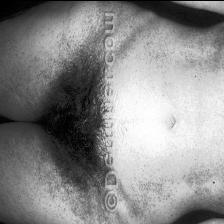Toxin: (124, 166, 172, 214), (188, 35, 224, 76), (60, 22, 97, 60), (65, 184, 100, 224), (139, 30, 171, 66), (193, 151, 224, 187), (42, 166, 64, 196), (118, 7, 128, 46)
